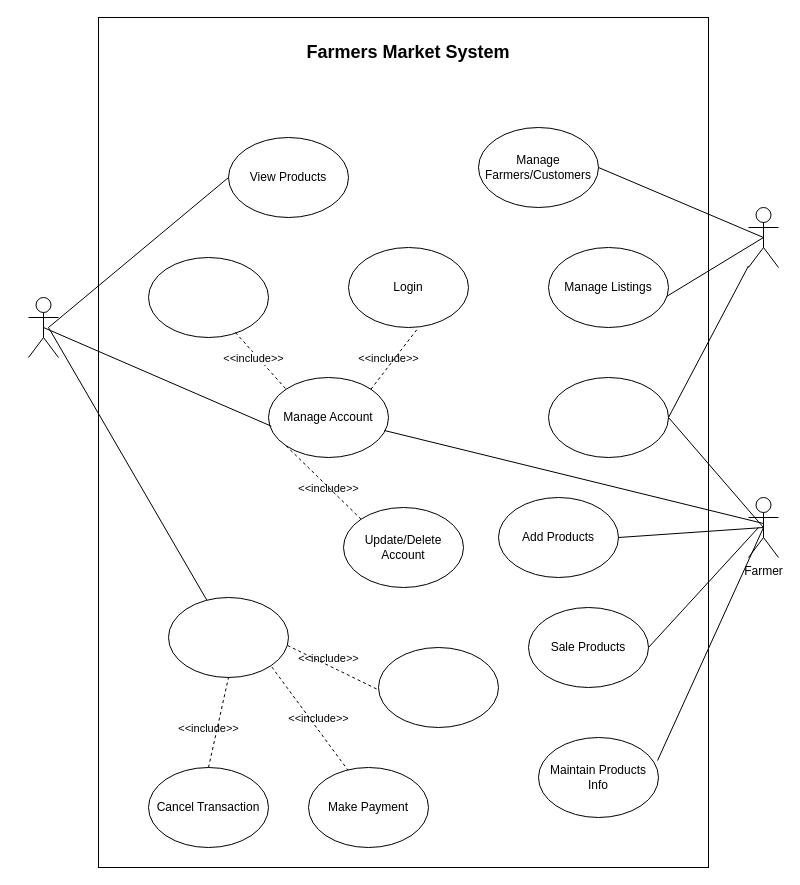
This 800x885 diagram has some shape labels left out. The shapes that lost their labels are listed below. From the top down, each one's centre as x and y in pixels, then its label:
point (763, 237): Admin
point (208, 297): Register
point (43, 327): Customer
point (608, 417): View Reports
point (228, 637): Add to Basket
point (438, 687): Manage Basket
